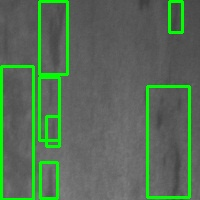inclusion: (147, 86, 189, 197), (1, 66, 33, 199), (39, 1, 67, 74), (39, 77, 59, 140), (40, 162, 57, 198), (169, 1, 182, 32), (46, 116, 59, 146)
